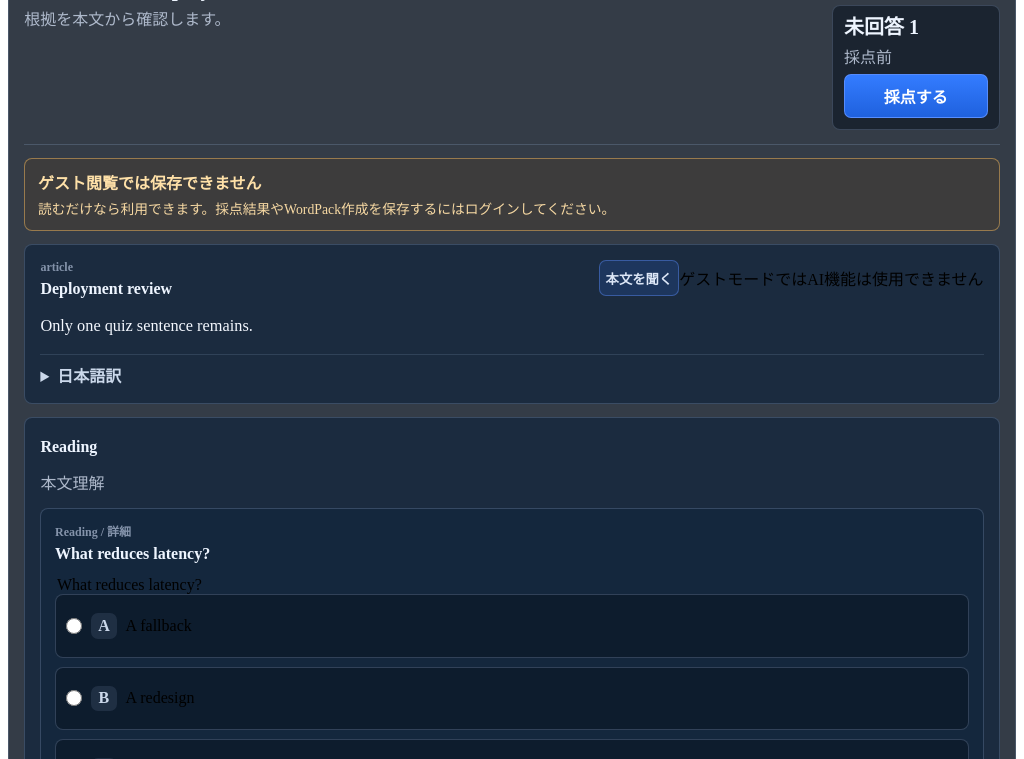
Test: QuizPage › does not enable translation sentence highlighting for a single-sentence quiz passage
(page scrolled)
Step 1. Click the heading "日本語訳" → (89, 377), box x1=57 y1=368 x2=121 y2=385
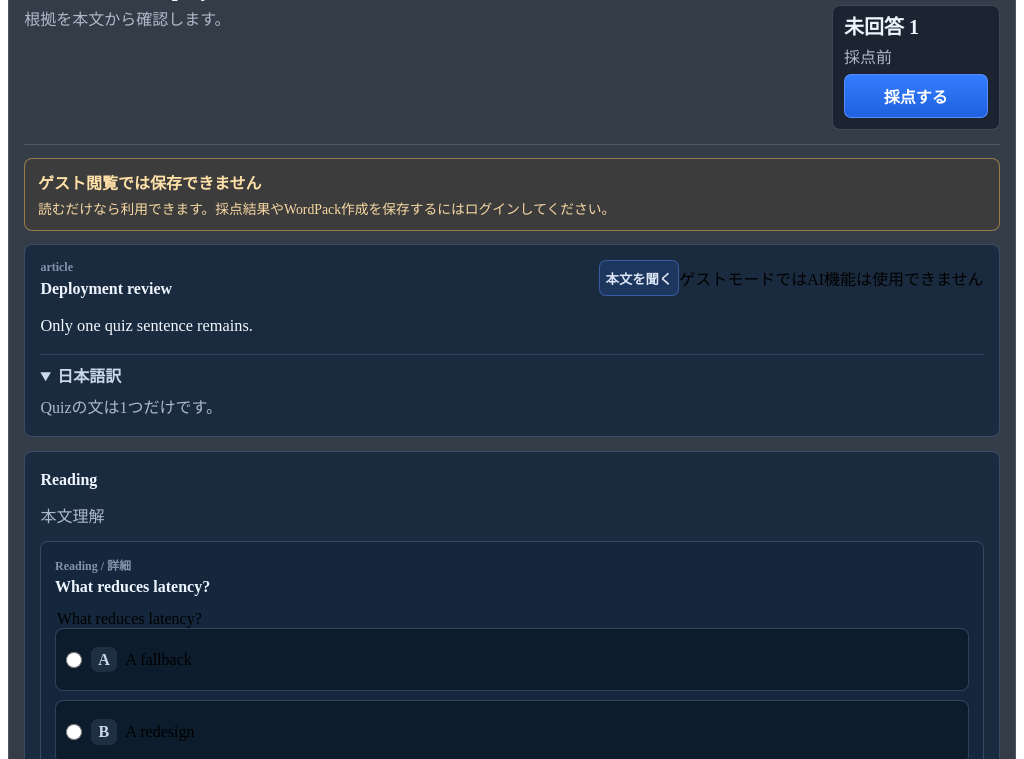
Expected: the text "Only one quiz sentence remains." is shown, x1=40 y1=316 x2=253 y2=335
Expected: the text "Quizの文は1つだけです。" is shown, x1=40 y1=398 x2=222 y2=416
